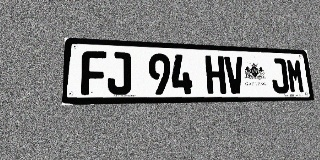4: (171, 54, 193, 94)
9: (149, 53, 171, 94)
F: (81, 50, 107, 95)
H: (205, 55, 226, 94)
J: (107, 51, 131, 95), (269, 58, 289, 93)
M: (286, 59, 305, 93)
V: (224, 56, 245, 94)
